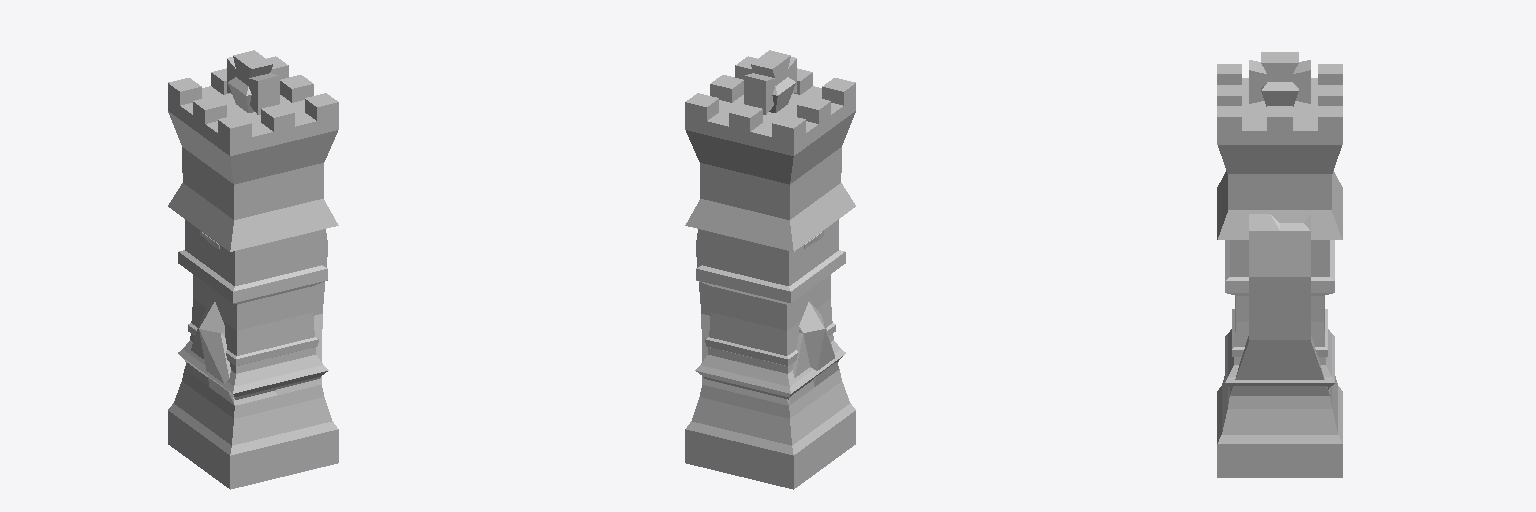
Rendered from kng.obj.
3 views of the same model, side by side, from view 1: azimuth 30°, elevation 25°; view 2: azimuth 150°, elevation 25°; view 3: azimuth 270°, elevation 25° (orthographic).
Parts seen in each view (by area): view 1: Queen, Bishy, Rook, Knight, King, Pawn; view 2: Queen, Bishy, Rook, Knight, King, Pawn; view 3: Queen, Knight, Bishy, Rook, King.
Part boxes in pixels (x1,y1,x2,y2): Queen: (168,56,338,396); Bishy: (168,250,337,488); Rook: (168,219,338,489); Knight: (182,229,327,418); King: (189,50,311,131); Pawn: (188,323,318,365); Queen: (685,56,855,396); Bishy: (685,250,855,488); Rook: (685,219,855,489); Knight: (696,229,841,418); King: (712,50,834,131); Pawn: (705,323,835,365); Queen: (1217,64,1342,387); Knight: (1228,214,1331,408); Bishy: (1217,240,1342,477); Rook: (1217,240,1342,477); King: (1242,52,1317,126).
Size of the model in its own units: 2.1 by 6.93 by 2.